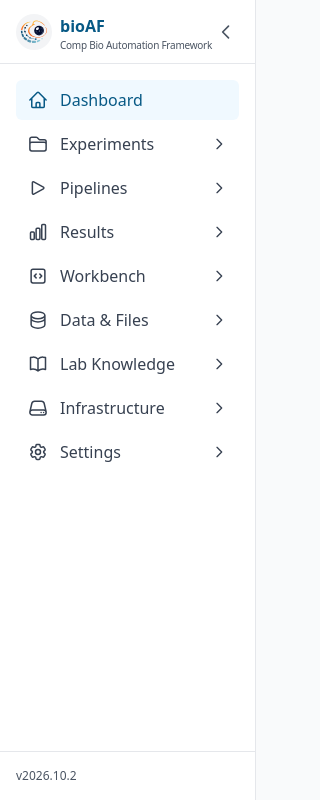
Test: Sidebar › shows child items when parent section is expanded
# Expand Infrastructure
Click the button "Infrastructure". click: (128, 408)
box: top-left (16, 388), bottom-right (239, 428)
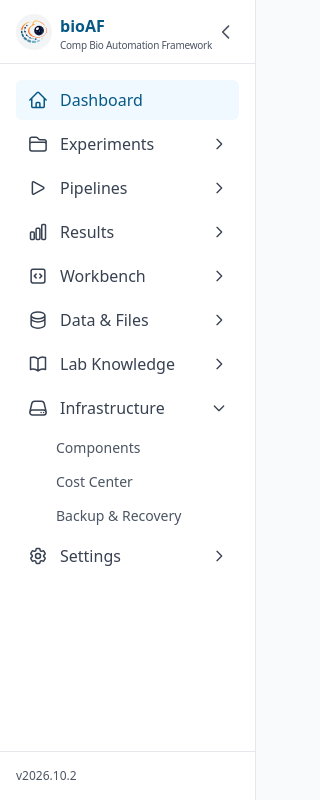
Expected: the link "Components" is shown, top-left (56, 438), bottom-right (140, 457)
Expected: the link "Cost Center" is shown, top-left (56, 472), bottom-right (133, 491)
Expected: the link "Backup & Recovery" is shown, top-left (56, 506), bottom-right (181, 525)
